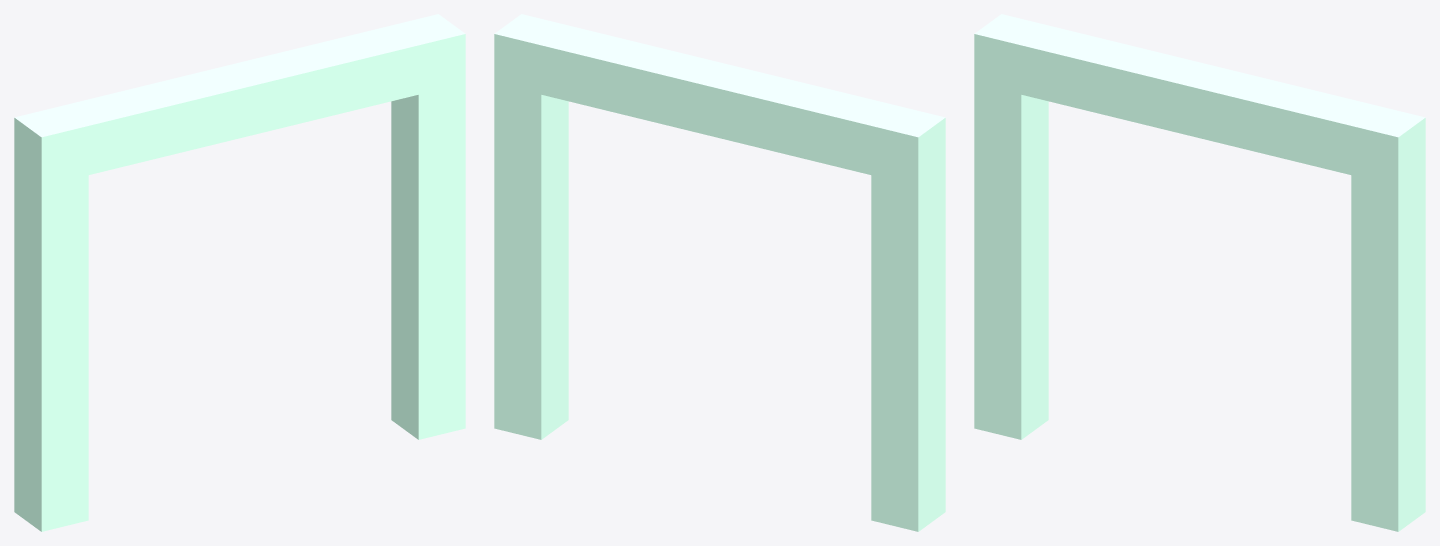
Rendered from arch_large.glb.
3 renders of one model, left to right at view 1: azimuth 30°, elevation 25°; view 2: azimuth 150°, elevation 25°; view 3: azimuth 330°, elevation 25°, orthographic.
Parts seen in each view (by area): view 1: ArchLarge_Lintel-convcol, ArchLarge_PostL-convcol, ArchLarge_PostR-convcol; view 2: ArchLarge_Lintel-convcol, ArchLarge_PostL-convcol, ArchLarge_PostR-convcol; view 3: ArchLarge_Lintel-convcol, ArchLarge_PostR-convcol, ArchLarge_PostL-convcol.
Boxes of the visible parts, box(x1,y1,x2,y2) form: ArchLarge_Lintel-convcol: box(14, 14, 465, 186); ArchLarge_PostL-convcol: box(14, 167, 88, 531); ArchLarge_PostR-convcol: box(391, 83, 465, 439); ArchLarge_Lintel-convcol: box(494, 14, 945, 186); ArchLarge_PostL-convcol: box(871, 167, 945, 531); ArchLarge_PostR-convcol: box(494, 83, 568, 439); ArchLarge_Lintel-convcol: box(974, 14, 1425, 186); ArchLarge_PostR-convcol: box(1351, 167, 1425, 531); ArchLarge_PostL-convcol: box(974, 83, 1048, 439).
Size of the model in its own units: 12.15 by 10.8 by 1.35.
